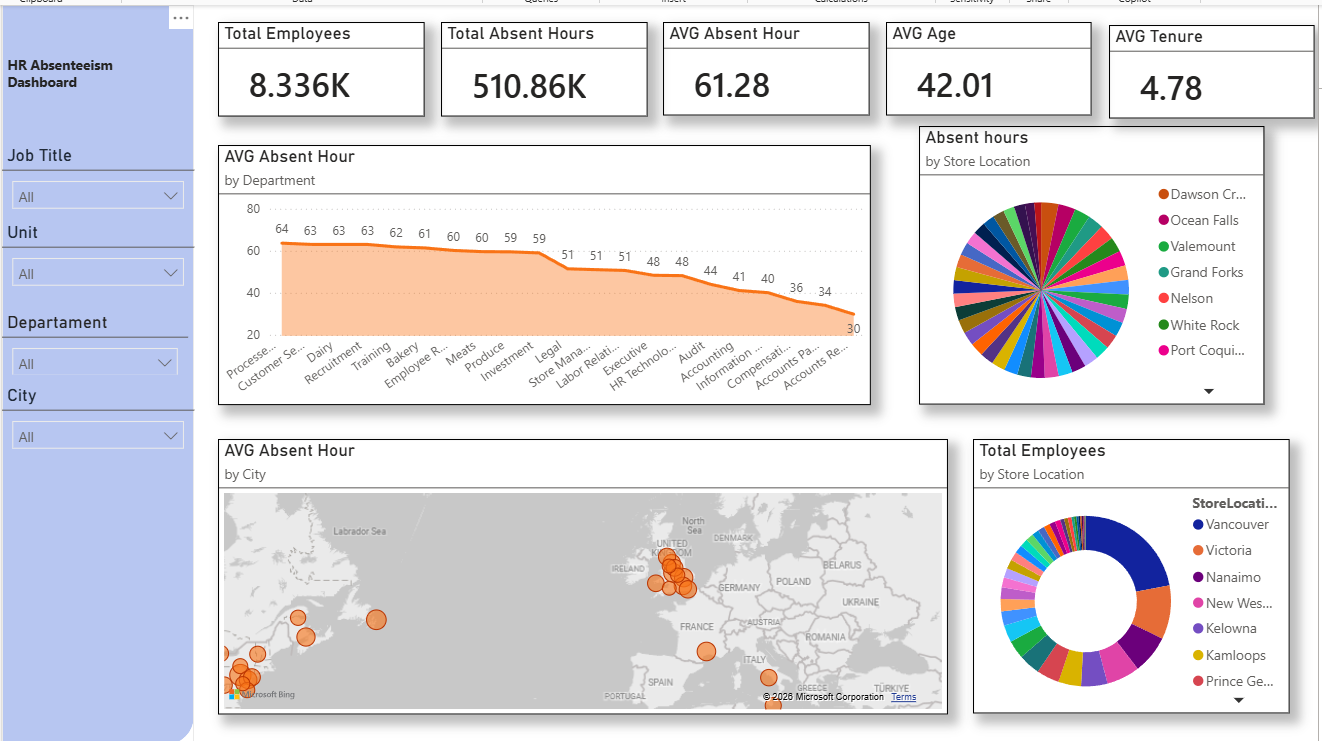

What the dashboard file says about the page in this screenshot:
{"tool":"powerbi","page":{"name":"KPI","canvas":[1280,720],"ordinal":0},"visuals":[{"type":"shape","box":[0,0,186.7,719.8],"z":0},{"type":"cardVisual","title":"Total Employees","fields":{"Data":["MFGEmployees4.Total Employees"]},"box":[209.8,16.8,200.6,91.9],"z":1000},{"type":"cardVisual","title":"Total Absent Hours","fields":{"Data":["MFGEmployees4.Total Absent Hour"]},"box":[426.6,16.8,200.6,92],"z":2000},{"type":"cardVisual","title":"AVG Absent Hour","fields":{"Data":["MFGEmployees4.AVG Absent Hour"]},"box":[643.3,16.8,200.6,91],"z":3000},{"type":"cardVisual","title":"AVG  Age","fields":{"Data":["MFGEmployees4.AVG AGE"]},"box":[860.1,16.8,200,91],"z":4000},{"type":"cardVisual","title":"AVG Tenure","fields":{"Data":["MFGEmployees4.AVG lenght of service"]},"box":[1076.4,19.9,200,91],"z":5000},{"type":"lineChart","title":"AVG Absent Hour","fields":{"Y":["MFGEmployees4.AVG Absent Hour"],"Category":["MFGEmployees4.DepartmentName"]},"box":[209.8,136.3,635.4,252.6],"z":6000},{"type":"map","title":"AVG Absent Hour ","fields":{"Category":["MFGEmployees4.City"],"Size":["MFGEmployees4.AVG Absent Hour"]},"box":[209.8,422.6,710.4,267.9],"z":7000},{"type":"slicer","title":"City","fields":{"Values":["MFGEmployees4.City"]},"box":[0,369.6,186.7,76.8],"z":8000},{"type":"slicer","title":"Departament","fields":{"Values":["MFGEmployees4.DepartmentName"]},"box":[0,298.6,180.9,61.3],"z":9000},{"type":"slicer","title":"Job Title","fields":{"Values":["MFGEmployees4.JobTitle"]},"box":[0,136.2,186.7,74.9],"z":10000},{"type":"slicer","title":"Unit","fields":{"Values":["MFGEmployees4.BusinessUnit"]},"box":[0,211.1,186.7,97.3],"z":11000},{"type":"pieChart","title":"Absent hours ","fields":{"Category":["MFGEmployees4.StoreLocation"],"Y":["MFGEmployees4.AVG Absent Hour"]},"box":[891.9,117.7,335.6,271.4],"z":12000},{"type":"donutChart","title":"Total Employees","fields":{"Y":["MFGEmployees4.Total Employees"],"Category":["MFGEmployees4.StoreLocation"]},"box":[944.4,422.1,308.3,267.5],"z":13000},{"type":"textbox","box":[0,43.8,180.9,52.5],"z":14000}]}

Visuals, with their boxes on the page's 1280x720 design canvas (x1, y1, x2, y2). These are canvas units, not pixel positions in the 1322x741 screenshot, which may show the page scaled, cropped or inside an application window:
shape: (left=0, top=0, right=187, bottom=720)
"Total Employees" cardVisual: (left=210, top=17, right=410, bottom=109)
"Total Absent Hours" cardVisual: (left=427, top=17, right=627, bottom=109)
"AVG Absent Hour" cardVisual: (left=643, top=17, right=844, bottom=108)
"AVG  Age" cardVisual: (left=860, top=17, right=1060, bottom=108)
"AVG Tenure" cardVisual: (left=1076, top=20, right=1276, bottom=111)
"AVG Absent Hour" lineChart: (left=210, top=136, right=845, bottom=389)
"AVG Absent Hour " map: (left=210, top=423, right=920, bottom=690)
"City" slicer: (left=0, top=370, right=187, bottom=446)
"Departament" slicer: (left=0, top=299, right=181, bottom=360)
"Job Title" slicer: (left=0, top=136, right=187, bottom=211)
"Unit" slicer: (left=0, top=211, right=187, bottom=308)
"Absent hours " pieChart: (left=892, top=118, right=1228, bottom=389)
"Total Employees" donutChart: (left=944, top=422, right=1253, bottom=690)
textbox: (left=0, top=44, right=181, bottom=96)
